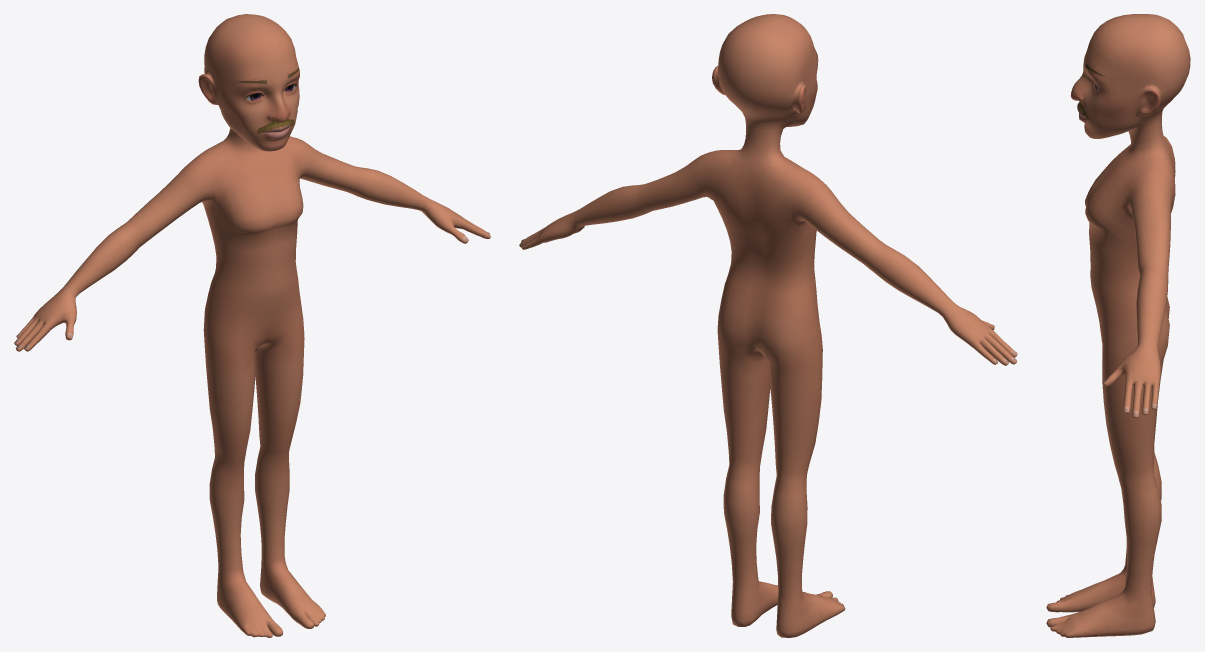
File: frame_0038.glb
3 views of the same model, side by side, from view 1: azimuth 30°, elevation 25°; view 2: azimuth 150°, elevation 25°; view 3: azimuth 270°, elevation 25° (orthographic). The views are drawn at different scales.
Visible parts, largest first — view 1: frame_0038_head_geo; view 2: frame_0038_head_geo; view 3: frame_0038_head_geo.
Part boxes in pixels (bbox=[...]): frame_0038_head_geo: bbox=[14, 14, 490, 637]; frame_0038_head_geo: bbox=[519, 14, 1017, 637]; frame_0038_head_geo: bbox=[1046, 14, 1190, 637].
Size of the model in its own units: 1.28 by 1.5 by 0.3253.
Materials: 3 (3 with a texture image).
